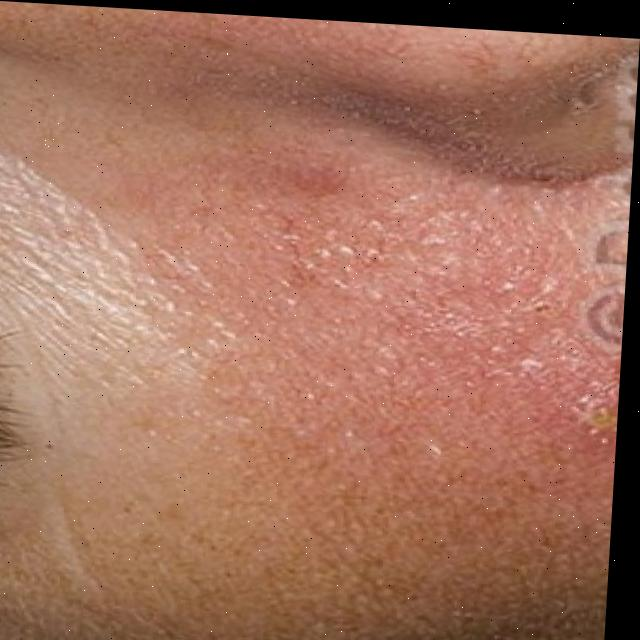Rosacea: (205, 179, 592, 467)
